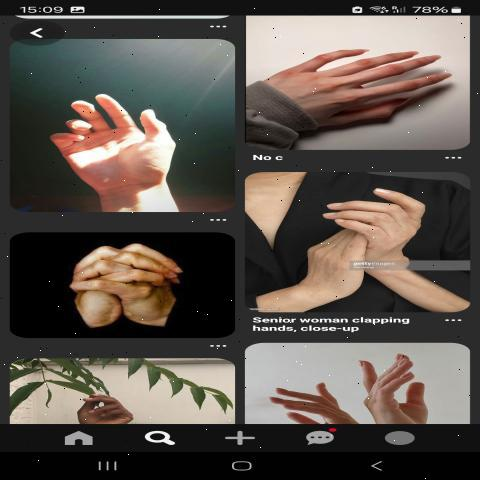Hands: (263, 15, 464, 145), (34, 68, 210, 208), (324, 157, 432, 289)
